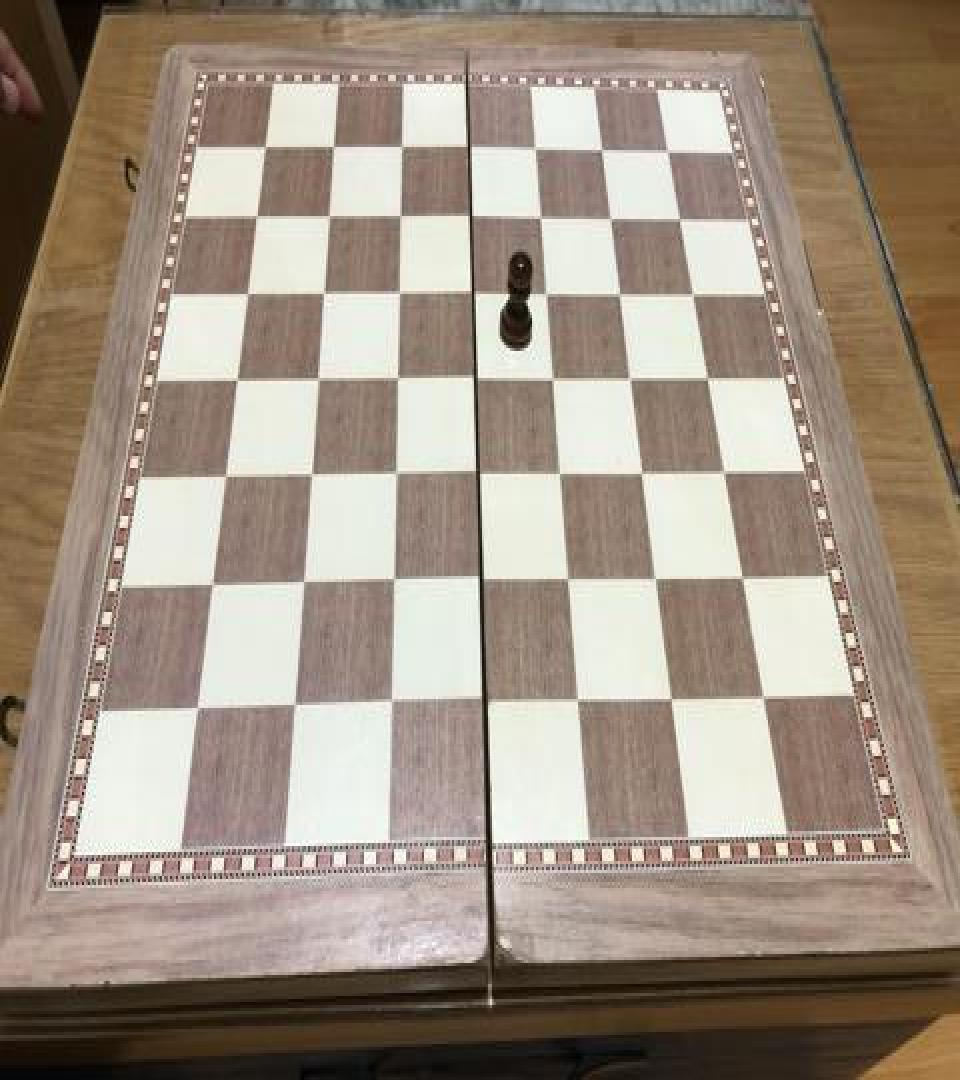xcorner: (710, 448, 736, 488), (298, 454, 324, 494), (214, 454, 240, 494), (729, 556, 755, 596), (643, 556, 669, 596), (291, 562, 317, 602), (472, 682, 498, 722), (185, 688, 211, 728), (664, 195, 690, 234), (595, 197, 621, 236), (526, 197, 552, 236), (457, 197, 483, 236), (387, 197, 413, 236), (317, 197, 343, 236), (246, 197, 272, 236), (311, 273, 337, 312), (237, 273, 263, 312), (462, 357, 488, 396), (384, 357, 410, 396), (305, 358, 331, 397), (226, 358, 252, 397), (629, 450, 655, 489), (382, 453, 408, 492), (556, 558, 582, 597), (468, 559, 494, 598), (380, 561, 406, 600), (201, 564, 227, 603), (751, 678, 777, 717), (659, 680, 685, 719), (566, 681, 592, 720), (377, 686, 403, 725), (282, 687, 308, 726), (652, 128, 678, 166), (587, 128, 613, 166), (521, 128, 547, 166), (455, 128, 481, 166), (389, 128, 415, 166), (322, 128, 348, 166), (255, 128, 281, 166), (678, 272, 704, 310), (605, 272, 631, 310), (532, 272, 558, 310), (459, 272, 485, 310), (386, 272, 412, 310), (693, 356, 719, 394), (616, 356, 642, 394), (539, 356, 565, 394), (547, 452, 573, 490), (465, 452, 491, 490)
